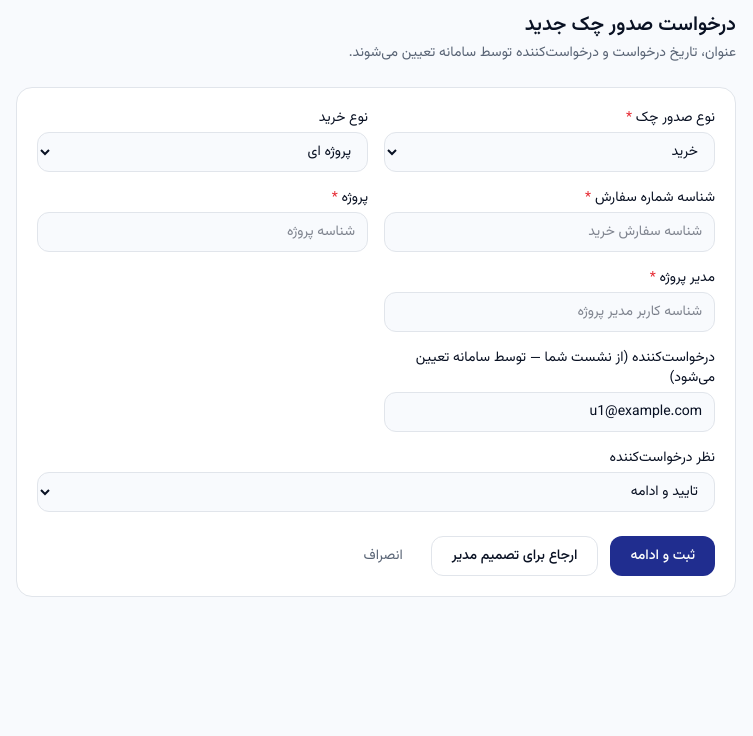
Test: Phase F1 — CheckRequestFormView (conditional fields, create, route) › renders the SERVER’S source sentence for a typed refusal (V4)
This screenshot has width=753, height=736.
Click the button with test id "financial-check-save": x=663, y=556 [610,536,715,576]
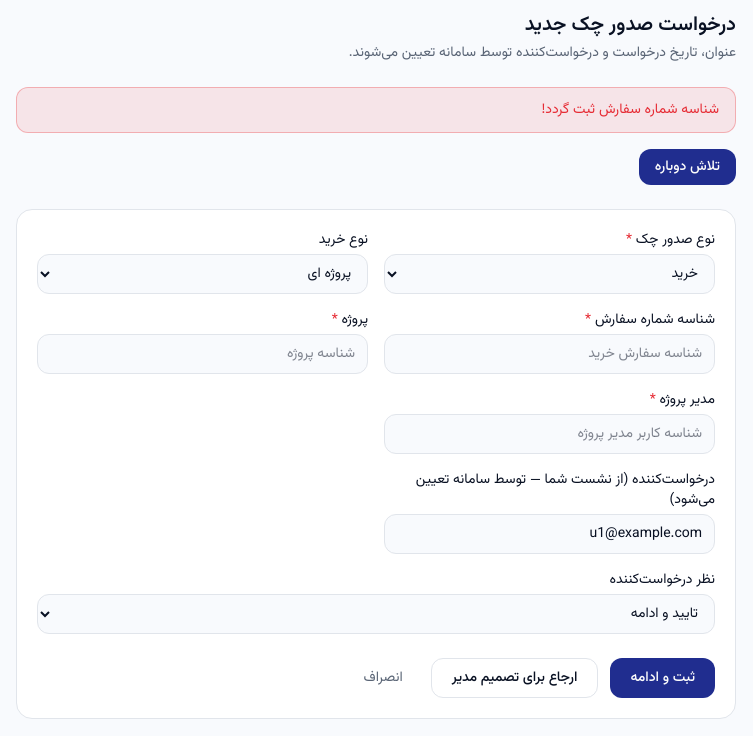
expect the element with test id "financial-check-form-error" shows "شناسه شماره سفارش ثبت گردد!": met, box [542,99,719,121]
